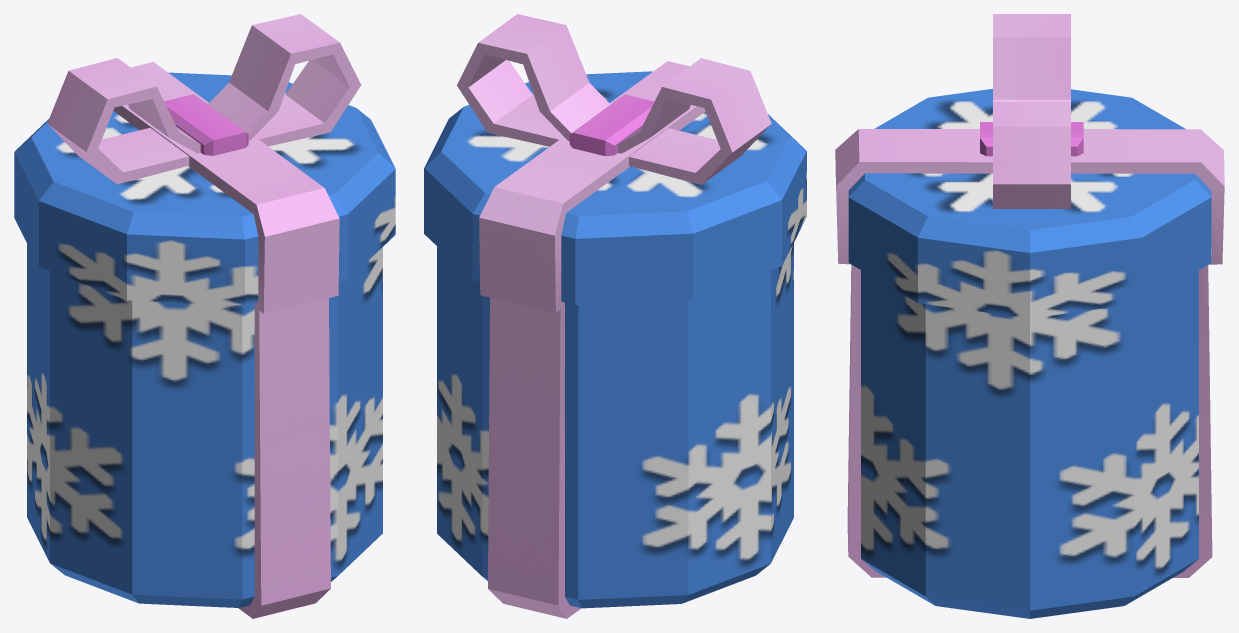
3 views of the same model, side by side, from view 1: azimuth 30°, elevation 25°; view 2: azimuth 150°, elevation 25°; view 3: azimuth 270°, elevation 25° (orthographic).
Parts seen in each view (by area): view 1: smMAT0110024; view 2: smMAT0110024; view 3: smMAT0110024.
Boxes of the visible parts, box(x1,y1,x2,y2) form: smMAT0110024: box(14, 14, 395, 618); smMAT0110024: box(424, 14, 806, 618); smMAT0110024: box(835, 14, 1224, 618).
Bounding box in the file's own units: 74.39 × 106 × 75.96.
1 material, 1 textured.
